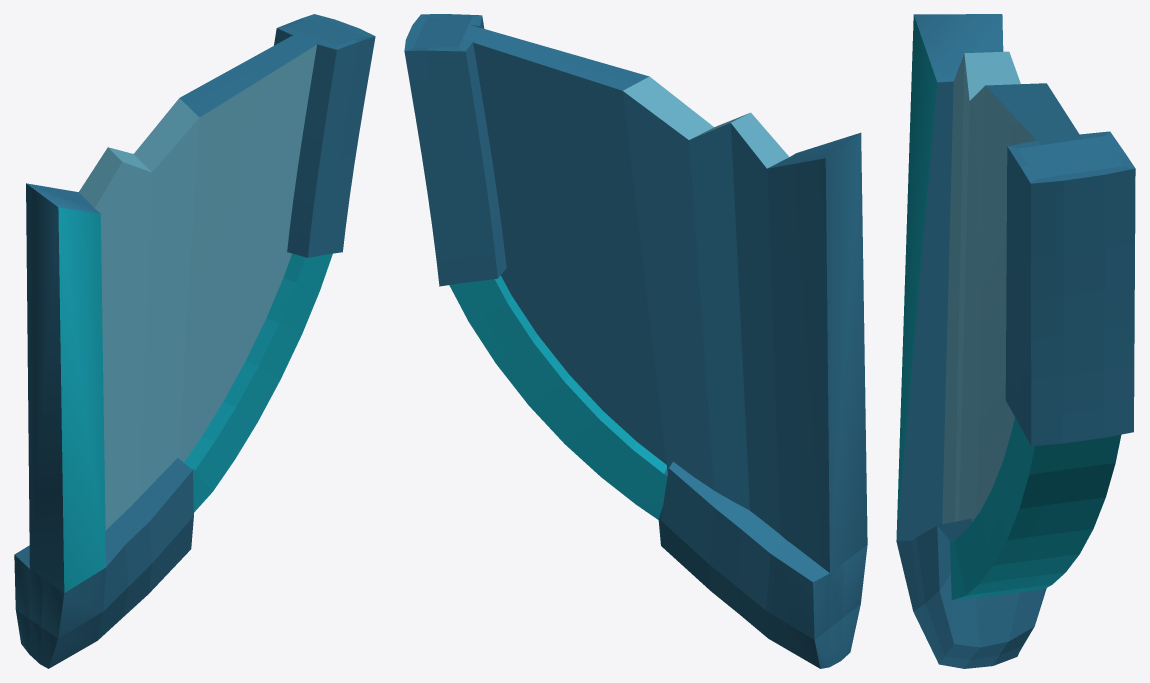
Rendered from perisai kanan bawah.fbx.
The picture shows the model from 3 angles, left to right: view 1: azimuth 30°, elevation 25°; view 2: azimuth 150°, elevation 25°; view 3: azimuth 270°, elevation 25°; orthographic projection. The views are drawn at different scales.
Visible parts, largest first — view 1: kanan bwah; view 2: kanan bwah; view 3: kanan bwah.
Part boxes in pixels (<box>): kanan bwah: <box>14,14,375,668</box>; kanan bwah: <box>404,14,867,668</box>; kanan bwah: <box>896,14,1135,668</box>.
Size of the model in its own units: 103 by 144 by 43.37.
